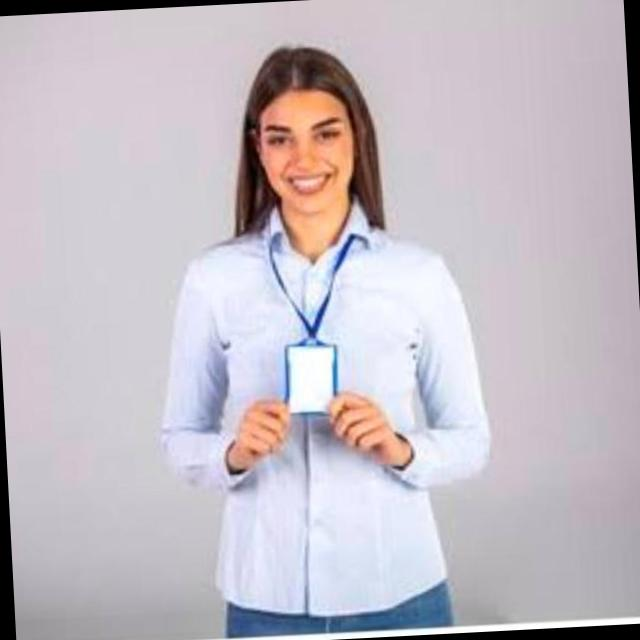id_card: (267, 228, 360, 418)
